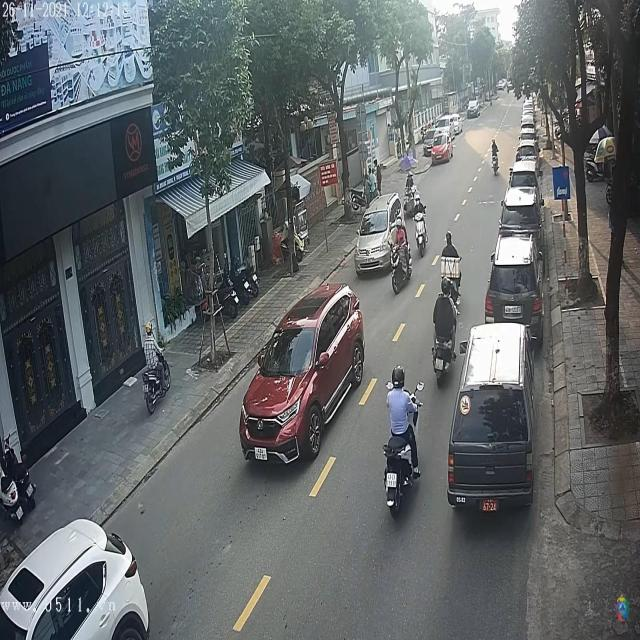car: (239, 281, 367, 469), (447, 323, 532, 510), (485, 233, 543, 329), (355, 191, 406, 280), (502, 182, 540, 227), (468, 99, 482, 117)
motorcycle: (382, 409, 420, 522), (429, 303, 458, 389), (388, 240, 412, 291), (412, 212, 429, 260)
